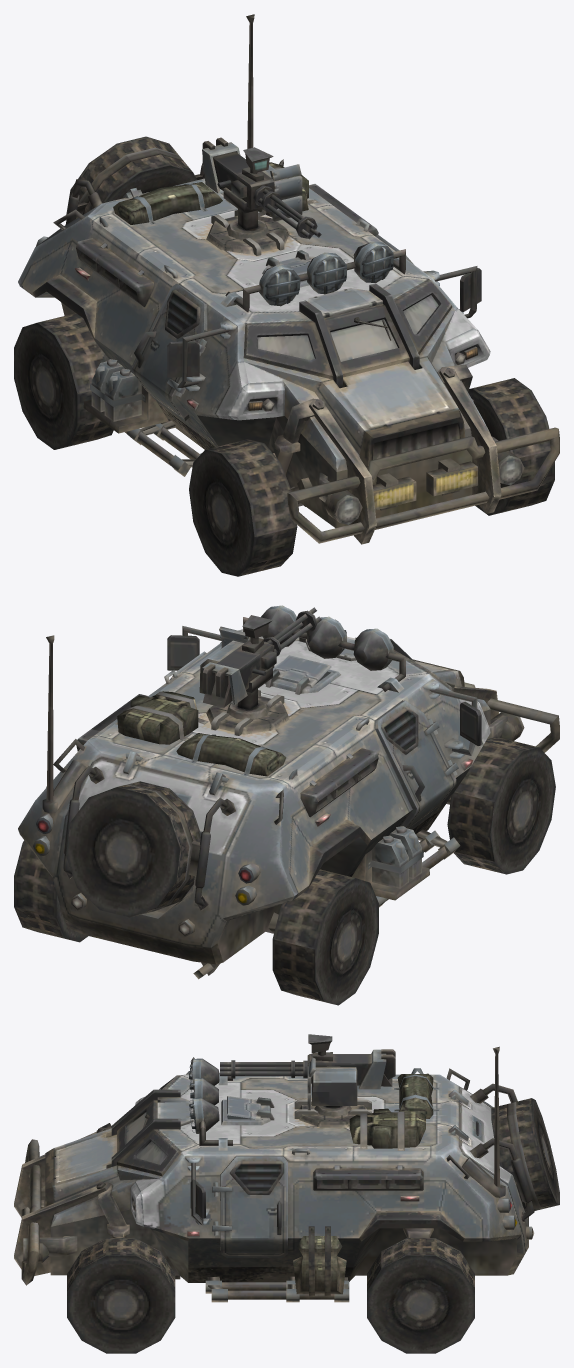
File: eu_lightreconvehicle.fbx
3 renders of one model, top to bottom at view 1: azimuth 30°, elevation 25°; view 2: azimuth 150°, elevation 25°; view 3: azimuth 270°, elevation 25°, orthographic. The views are drawn at different scales.
Parts seen in each view (by area): view 1: EU_LightReconVehicle_FactionVehicle_2UV; view 2: EU_LightReconVehicle_FactionVehicle_2UV; view 3: EU_LightReconVehicle_FactionVehicle_2UV.
Part boxes in pixels (<box>): EU_LightReconVehicle_FactionVehicle_2UV: <box>14,14,559,576</box>; EU_LightReconVehicle_FactionVehicle_2UV: <box>14,605,559,1005</box>; EU_LightReconVehicle_FactionVehicle_2UV: <box>14,1034,559,1353</box>.
Size of the model in its own units: 126 by 127 by 221.
